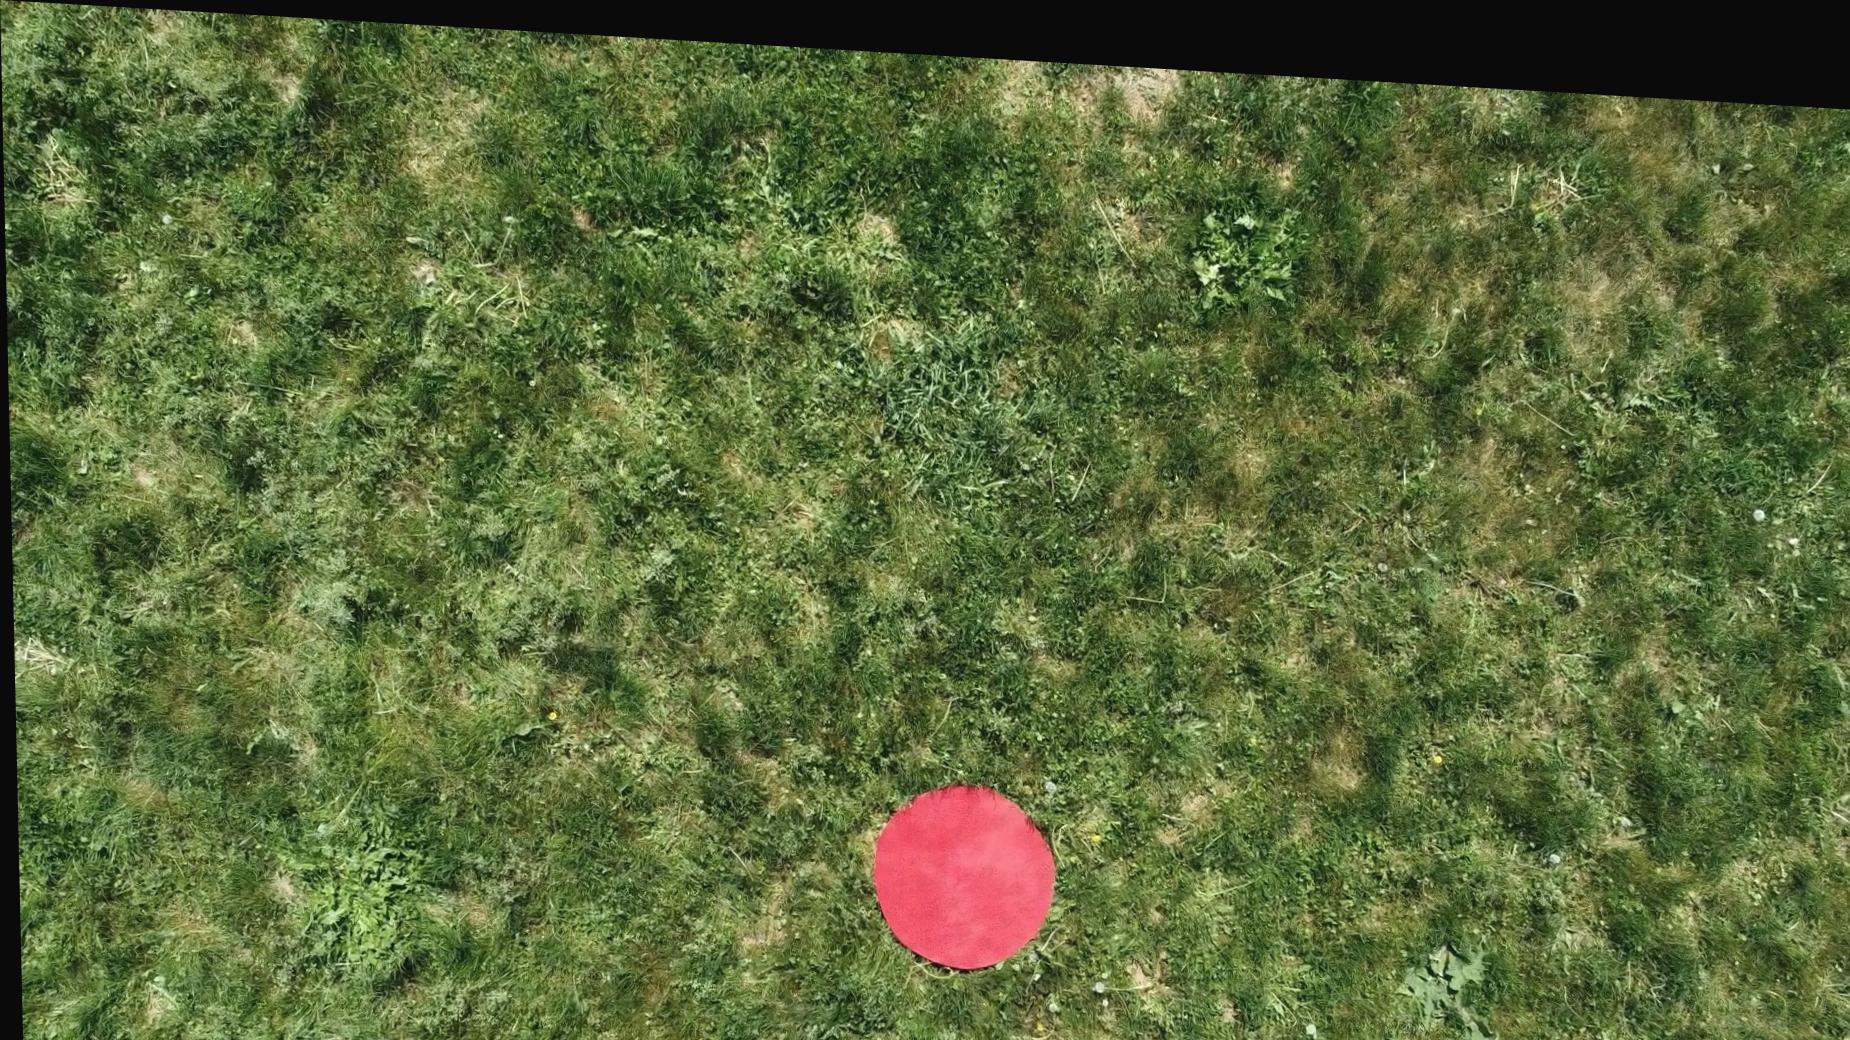Red: (855, 762, 1063, 970)
